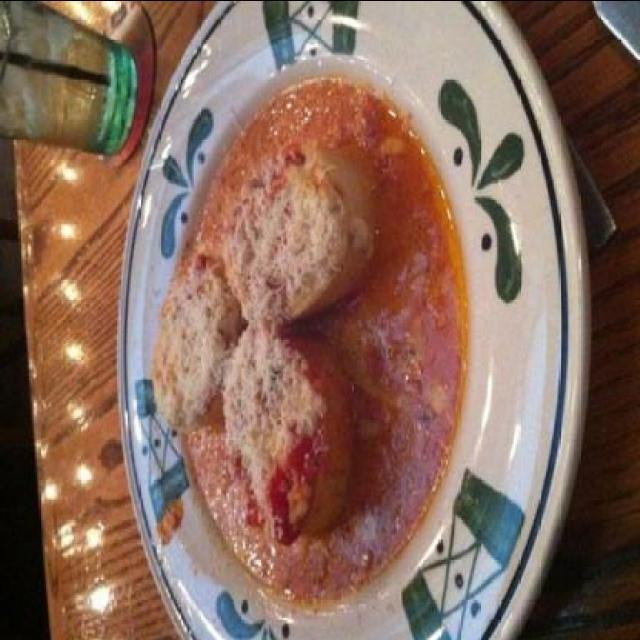Lasagna: (120, 50, 472, 608)
